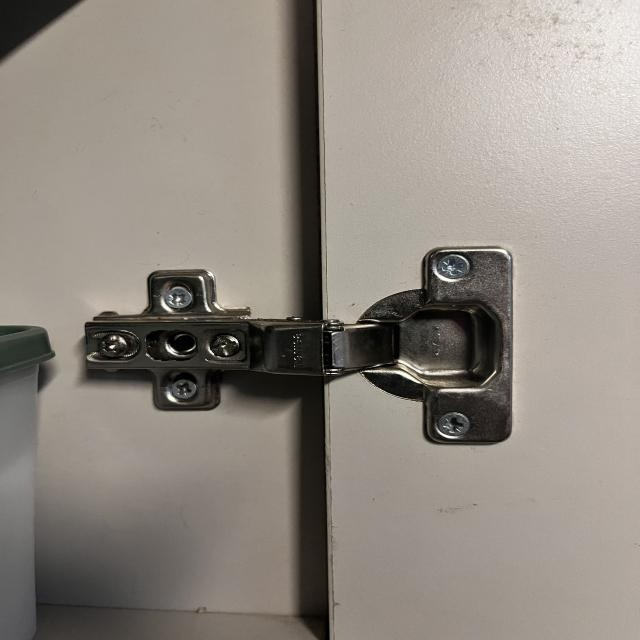pozidriv: (437, 253, 471, 279), (438, 412, 470, 436), (164, 288, 192, 308), (172, 379, 196, 399)
